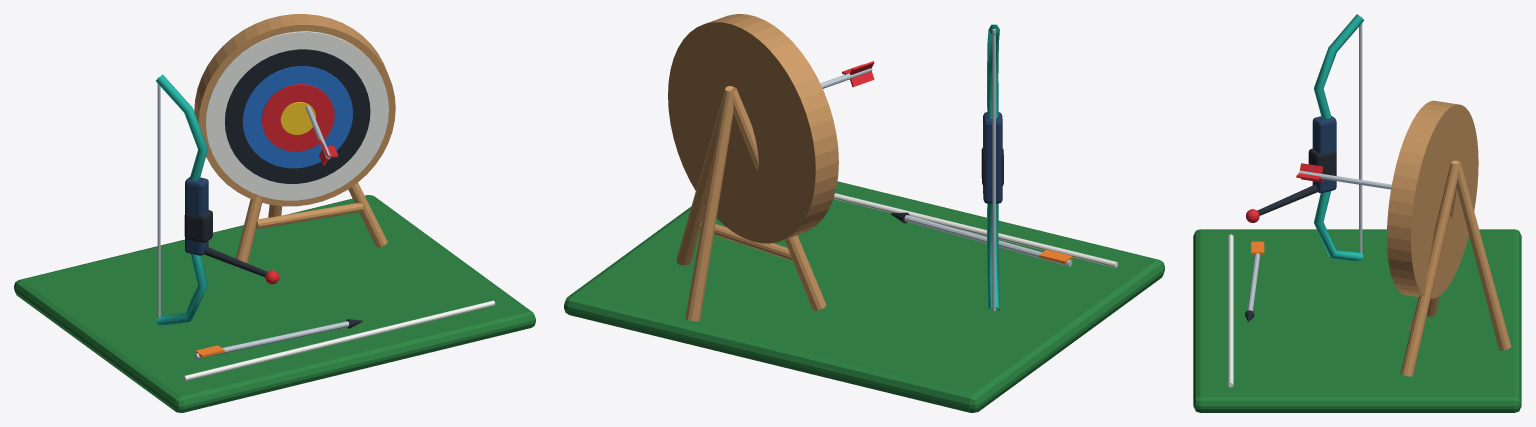
Rendered from archery.glb.
3 views of the same model, side by side, from view 1: azimuth 30°, elevation 25°; view 2: azimuth 150°, elevation 25°; view 3: azimuth 270°, elevation 25° (orthographic). The views are drawn at different scales.
Visible parts, largest first — view 1: archery; view 2: archery; view 3: archery.
Boxes of the visible parts, <box> form: archery: <box>14,14,535,412</box>; archery: <box>564,14,1164,412</box>; archery: <box>1193,14,1521,412</box>.
Bounding box in the file's own units: 0.35 × 0.2448 × 0.28.
